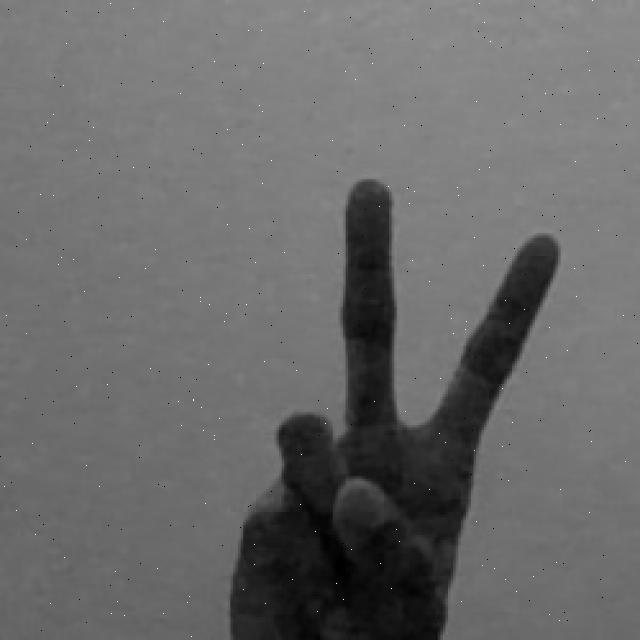V: (225, 174, 563, 640)
